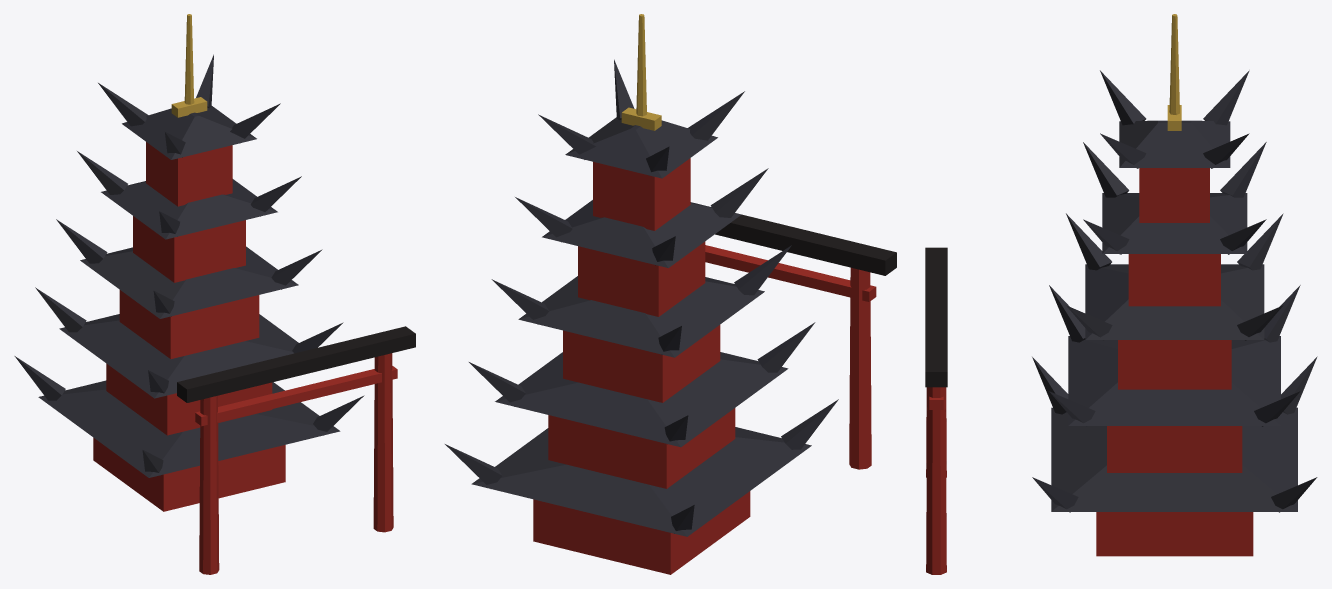
The model's file is macaque_landmark_broken.glb.
The picture shows the model from 3 angles, left to right: view 1: azimuth 30°, elevation 25°; view 2: azimuth 150°, elevation 25°; view 3: azimuth 270°, elevation 25°; orthographic projection. The views are drawn at different scales.
Parts seen in each view (by area): view 1: macaque_landmark_piece5, macaque_landmark_piece8, macaque_landmark_piece1, macaque_landmark_piece13, macaque_landmark_piece6, macaque_landmark_piece4, macaque_landmark_piece0, macaque_landmark_piece9, macaque_landmark_piece2, macaque_landmark_piece7, macaque_landmark_piece10; view 2: macaque_landmark_piece5, macaque_landmark_piece6, macaque_landmark_piece3, macaque_landmark_piece1, macaque_landmark_piece2, macaque_landmark_piece4, macaque_landmark_piece11, macaque_landmark_piece7, macaque_landmark_piece10, macaque_landmark_piece13, macaque_landmark_piece9, macaque_landmark_piece12; view 3: macaque_landmark_piece1, macaque_landmark_piece3, macaque_landmark_piece0, macaque_landmark_piece11, macaque_landmark_piece9, macaque_landmark_piece8, macaque_landmark_piece13, macaque_landmark_piece5, macaque_landmark_piece6, macaque_landmark_piece2, macaque_landmark_piece4, macaque_landmark_piece10 (+1 smaller).
Boxes of the visible parts, box(x1,y1,x2,y2) form: macaque_landmark_piece5: box(77, 316, 183, 511); macaque_landmark_piece8: box(170, 222, 292, 506); macaque_landmark_piece1: box(157, 14, 301, 267); macaque_landmark_piece13: box(212, 249, 415, 574); macaque_landmark_piece6: box(14, 151, 157, 432); macaque_landmark_piece4: box(177, 260, 299, 574); macaque_landmark_piece0: box(221, 327, 373, 528); macaque_landmark_piece9: box(164, 214, 276, 390); macaque_landmark_piece2: box(98, 83, 163, 247); macaque_landmark_piece7: box(128, 206, 169, 291); macaque_landmark_piece10: box(114, 195, 177, 396); macaque_landmark_piece5: box(542, 325, 838, 574); macaque_landmark_piece6: box(613, 236, 768, 536); macaque_landmark_piece3: box(445, 125, 624, 488); macaque_landmark_piece1: box(572, 14, 744, 376); macaque_landmark_piece2: box(536, 146, 705, 501); macaque_landmark_piece4: box(768, 226, 896, 469); macaque_landmark_piece11: box(479, 379, 606, 551); macaque_landmark_piece7: box(551, 168, 768, 493); macaque_landmark_piece10: box(673, 238, 886, 353); macaque_landmark_piece13: box(705, 214, 849, 464); macaque_landmark_piece9: box(530, 178, 752, 439); macaque_landmark_piece12: box(515, 14, 640, 216); macaque_landmark_piece1: box(1083, 14, 1246, 373); macaque_landmark_piece3: box(1151, 129, 1317, 511); macaque_landmark_piece0: box(933, 396, 1180, 574); macaque_landmark_piece11: box(1169, 369, 1297, 556); macaque_landmark_piece9: box(1091, 155, 1228, 504); macaque_landmark_piece8: box(1051, 220, 1161, 477); macaque_landmark_piece13: box(925, 298, 1099, 574); macaque_landmark_piece5: box(1032, 307, 1297, 477); macaque_landmark_piece6: box(1219, 142, 1317, 428); macaque_landmark_piece2: box(1203, 70, 1297, 480); macaque_landmark_piece4: box(925, 247, 1094, 477); macaque_landmark_piece10: box(1049, 193, 1220, 310).
Size of the model in its own units: 2.1 by 4 by 2.8.
